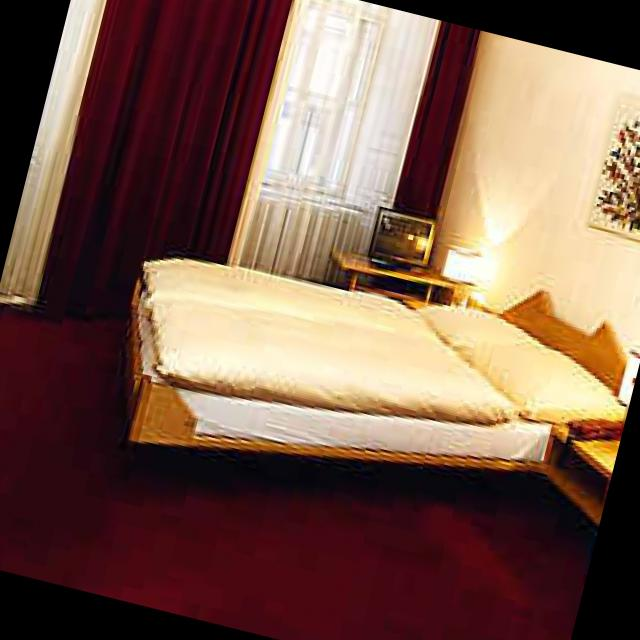2001: (270, 7, 388, 188)
bed -occluded-: (123, 253, 629, 471)
carpet floor: (0, 308, 598, 640)
curtain crop: (14, 0, 294, 318), (393, 21, 484, 211)
lamp crop: (450, 242, 486, 282)
night stand: (553, 419, 625, 515)
painting crop: (594, 97, 640, 236)
pillow occluded: (470, 345, 621, 410), (426, 307, 543, 342)
television: (338, 250, 482, 299)
television cabinet: (373, 207, 437, 265)
